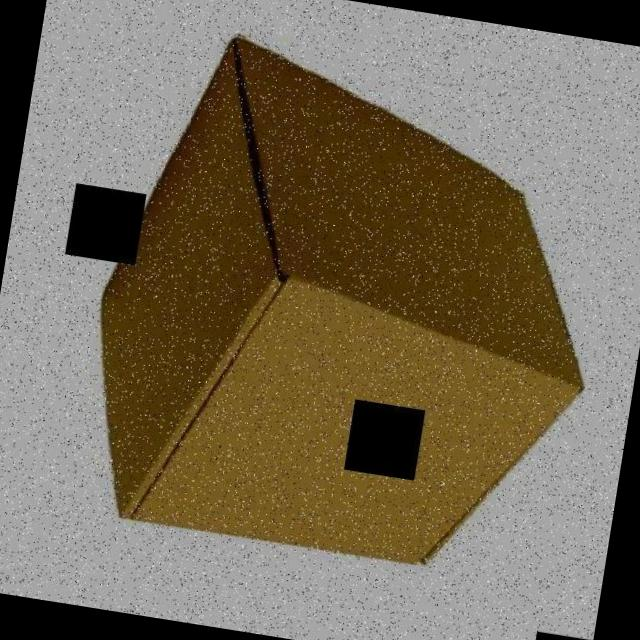box: (67, 20, 640, 587)
